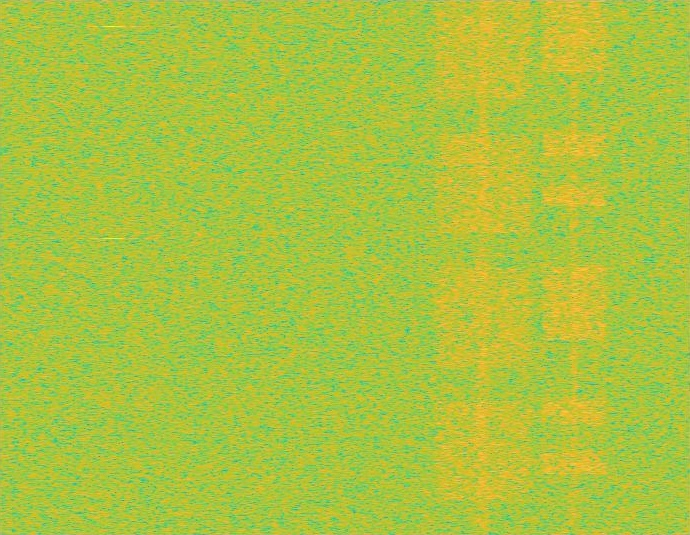5G: (432, 0, 535, 534)
DSSS: (476, 0, 490, 534), (570, 0, 579, 534)
LTE: (540, 0, 609, 534)
Radar: (107, 0, 120, 534)
